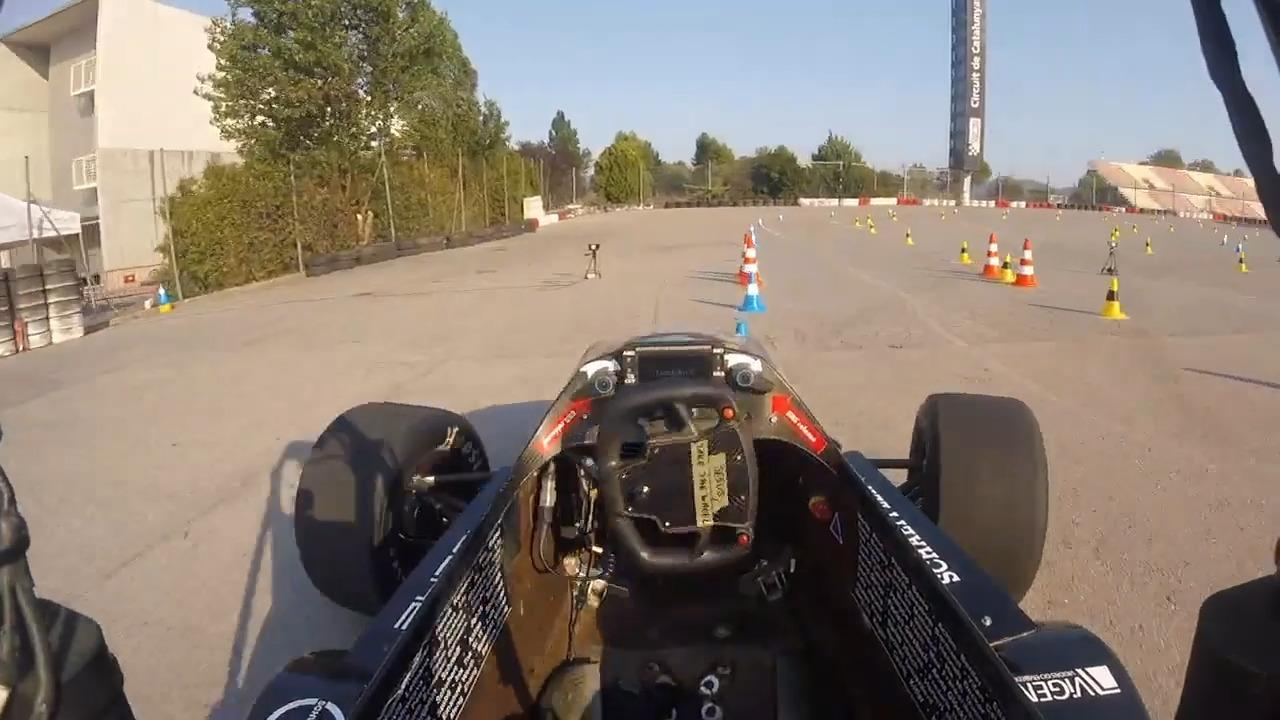blue_cone: (739, 271, 765, 313), (747, 225, 758, 245), (1236, 238, 1245, 255), (1221, 232, 1229, 248)
large_orange_cone: (1015, 239, 1036, 288), (739, 237, 759, 286), (979, 235, 1000, 279), (737, 234, 755, 272)
yellow_cone: (1096, 278, 1125, 319), (998, 254, 1014, 285), (1235, 251, 1249, 275), (957, 240, 969, 263), (904, 227, 914, 247), (1143, 235, 1153, 255), (853, 212, 861, 228), (1112, 223, 1119, 241), (869, 218, 876, 235), (1109, 227, 1116, 243), (891, 209, 899, 222), (1131, 221, 1138, 235), (866, 213, 873, 226)
